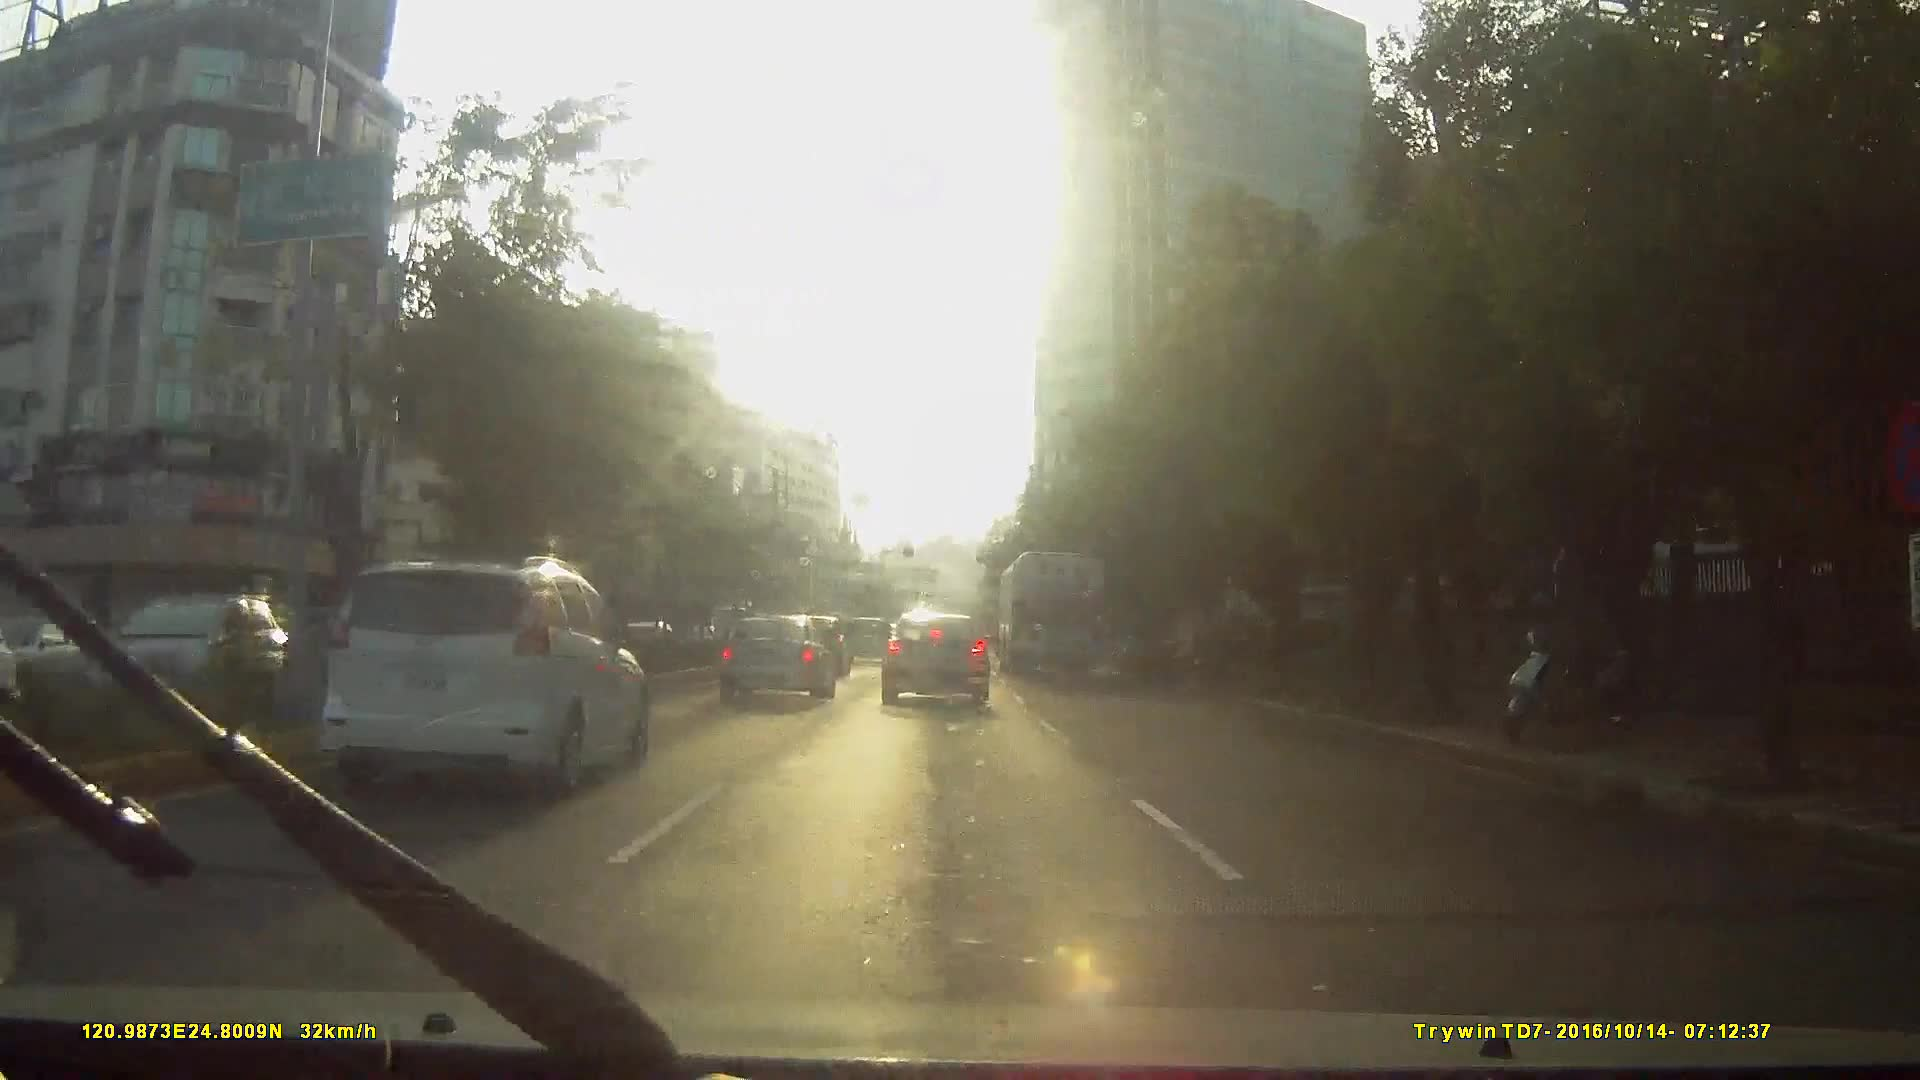vehicle: (251, 556, 684, 868), (313, 554, 649, 802), (98, 596, 303, 731), (1002, 550, 1112, 683), (878, 609, 992, 713), (716, 611, 837, 705), (843, 617, 891, 666)
